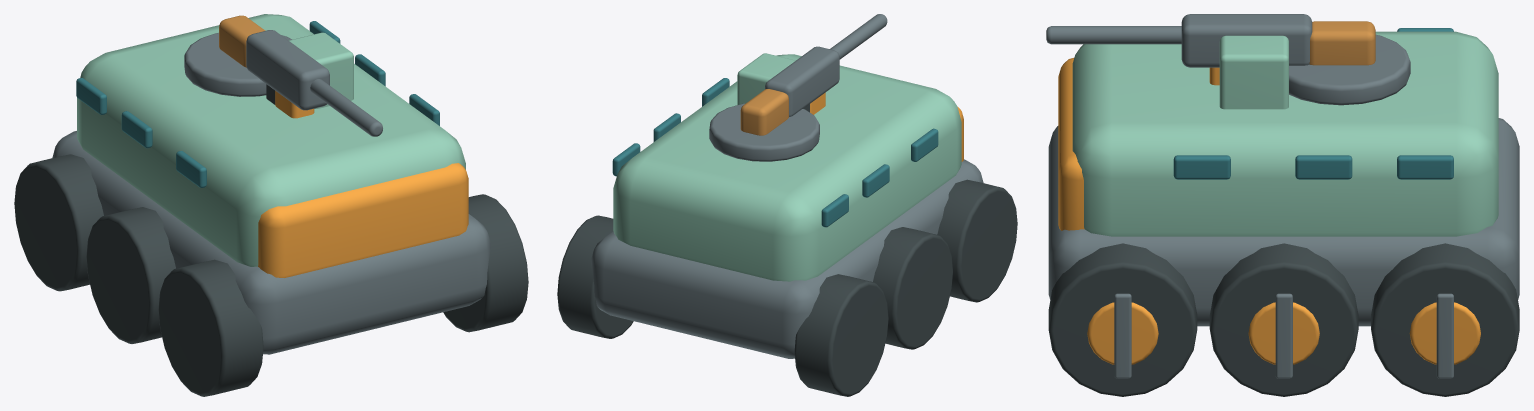
Rendered from apc.glb.
The picture shows the model from 3 angles, left to right: view 1: azimuth 30°, elevation 25°; view 2: azimuth 150°, elevation 25°; view 3: azimuth 270°, elevation 25°; orthographic projection. The views are drawn at different scales.
Parts seen in each view (by area): view 1: APC rounded armor, APC underbody, APC front armor, Wheel pivot.004, Wheel pivot.005, Wheel pivot.006, Wheel pivot.007, Receiver.001, APC hatch, Ammo box.001, Weapon barrel.001, Stock.001 (+6 smaller); view 2: APC rounded armor, APC underbody, Wheel pivot.006, Wheel pivot.005, Wheel pivot.004, Wheel pivot.009, APC hatch, Receiver.001, Stock.001, Ammo box.001, Weapon barrel.001, APC view slit.001 (+3 smaller); view 3: APC rounded armor, APC underbody, Wheel pivot.007, Wheel pivot.009, Wheel pivot.008, Ammo box.001, APC hatch, Receiver.001, APC front armor, Stock.001, Wheel hub.007, Weapon barrel.001 (+8 smaller).
Part boxes in pixels (x1=…): APC rounded armor: x1=77, y1=14, x2=465, y2=266; APC underbody: x1=52, y1=131, x2=490, y2=354; APC front armor: x1=258, y1=163, x2=468, y2=277; Wheel pivot.004: x1=158, y1=259, x2=263, y2=396; Wheel pivot.005: x1=86, y1=207, x2=175, y2=343; Wheel pivot.006: x1=14, y1=154, x2=103, y2=291; Wheel pivot.007: x1=443, y1=194, x2=528, y2=332; Receiver.001: x1=246, y1=30, x2=329, y2=110; APC hatch: x1=184, y1=33, x2=291, y2=96; Ammo box.001: x1=289, y1=32, x2=353, y2=108; Weapon barrel.001: x1=310, y1=79, x2=382, y2=136; Stock.001: x1=219, y1=15, x2=265, y2=67; APC rounded armor: x1=613, y1=54, x2=961, y2=281; APC underbody: x1=591, y1=159, x2=983, y2=358; Wheel pivot.006: x1=794, y1=274, x2=888, y2=396; Wheel pivot.005: x1=873, y1=227, x2=952, y2=349; Wheel pivot.004: x1=937, y1=179, x2=1017, y2=302; Wheel pivot.009: x1=557, y1=215, x2=633, y2=338; APC hatch: x1=709, y1=103, x2=819, y2=161; Receiver.001: x1=765, y1=46, x2=839, y2=116; Stock.001: x1=740, y1=89, x2=788, y2=135; Ammo box.001: x1=737, y1=53, x2=795, y2=104; Weapon barrel.001: x1=830, y1=14, x2=887, y2=59; APC view slit.001: x1=862, y1=164, x2=889, y2=197; APC rounded armor: x1=1072, y1=31, x2=1498, y2=236; APC underbody: x1=1048, y1=118, x2=1519, y2=326; Wheel pivot.007: x1=1048, y1=243, x2=1197, y2=396; Wheel pivot.009: x1=1371, y1=243, x2=1519, y2=396; Wheel pivot.008: x1=1209, y1=243, x2=1358, y2=396; Ammo box.001: x1=1219, y1=35, x2=1288, y2=109; APC hatch: x1=1289, y1=34, x2=1410, y2=105; Receiver.001: x1=1181, y1=14, x2=1312, y2=67; APC front armor: x1=1058, y1=58, x2=1084, y2=230; Stock.001: x1=1309, y1=21, x2=1375, y2=65; Wheel hub.007: x1=1087, y1=302, x2=1158, y2=364; Weapon barrel.001: x1=1046, y1=26, x2=1181, y2=44.
Size of the model in its own units: 1.66 by 1.31 by 1.91.
